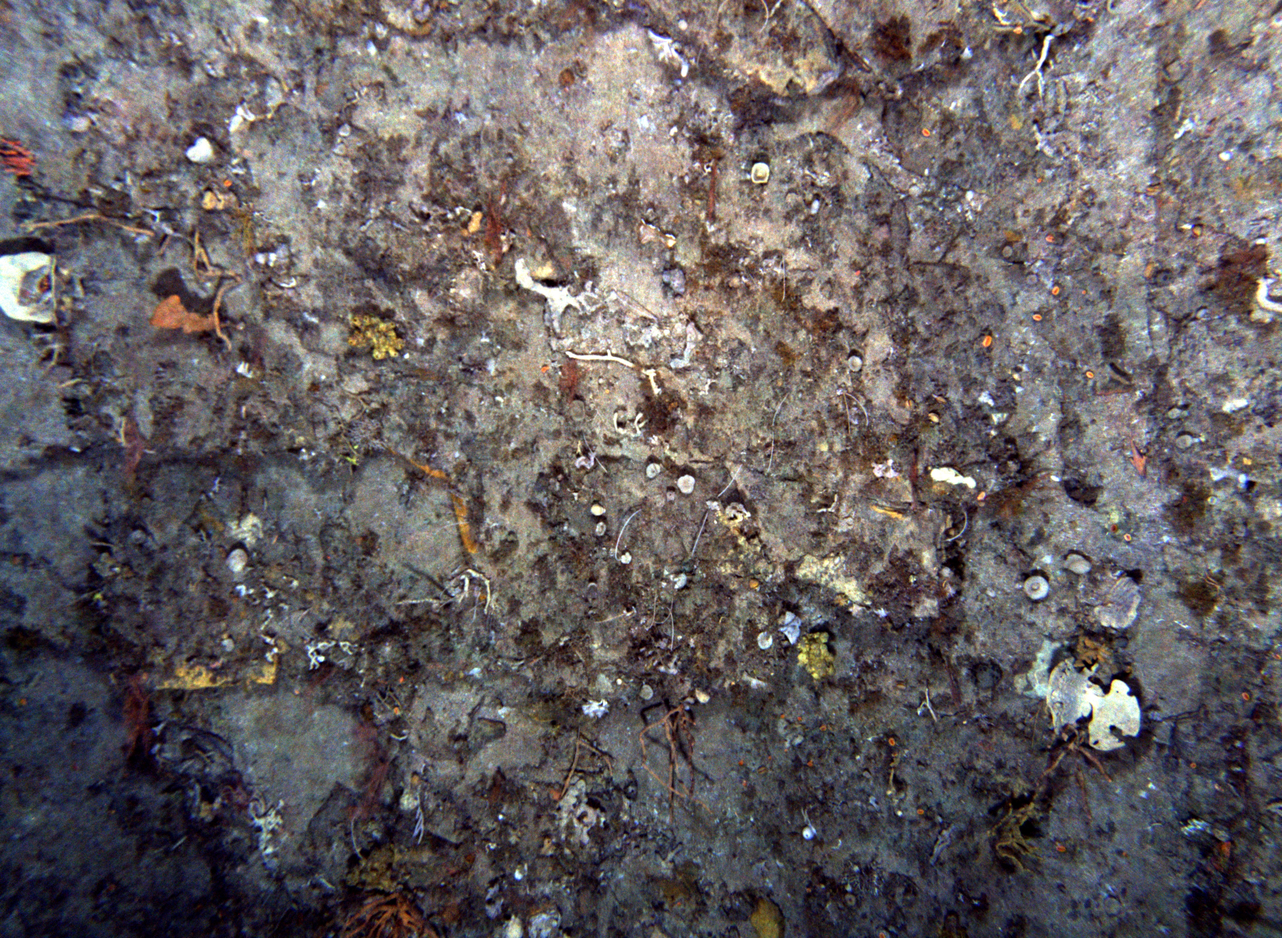Brachionichthyidae: (1124, 437, 1149, 479)
